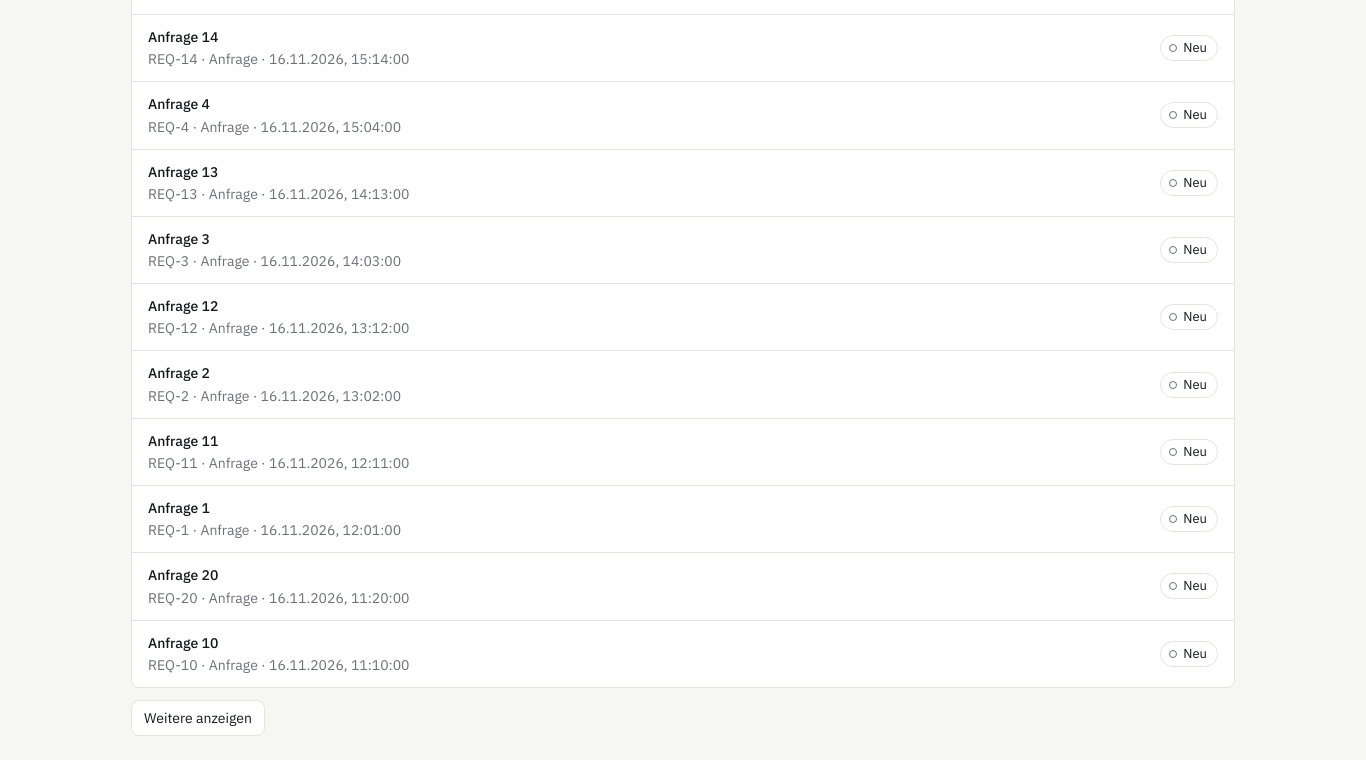
it: Meine Vorgänge › shows 20 and the next 20 on demand
The width and height of the screenshot is (1366, 760).
(page scrolled)
Click the button "Weitere anzeigen": (198,718) [131,700,265,736]
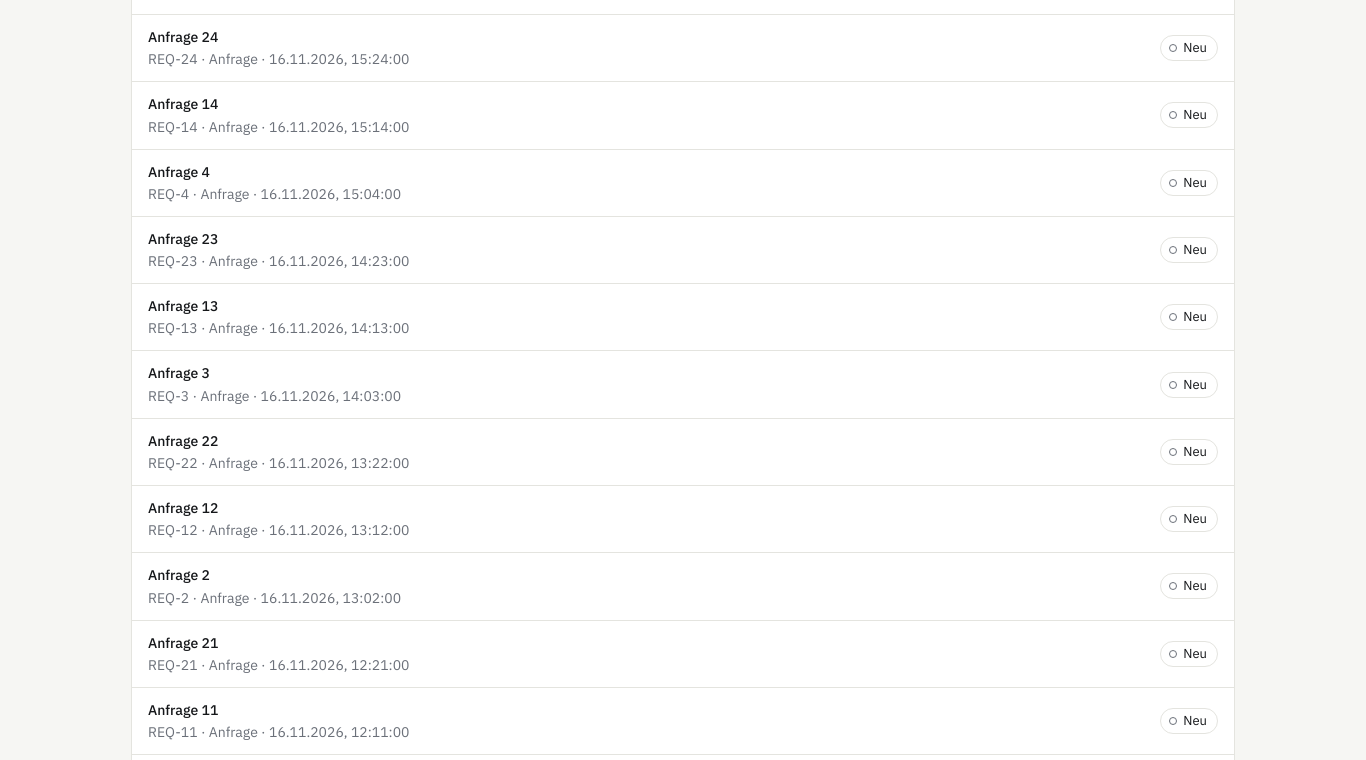
Expected: the link "Anfrage 24" is shown, [148,28,218,46]
Expected: the button "Weitere anzeigen" is gone
